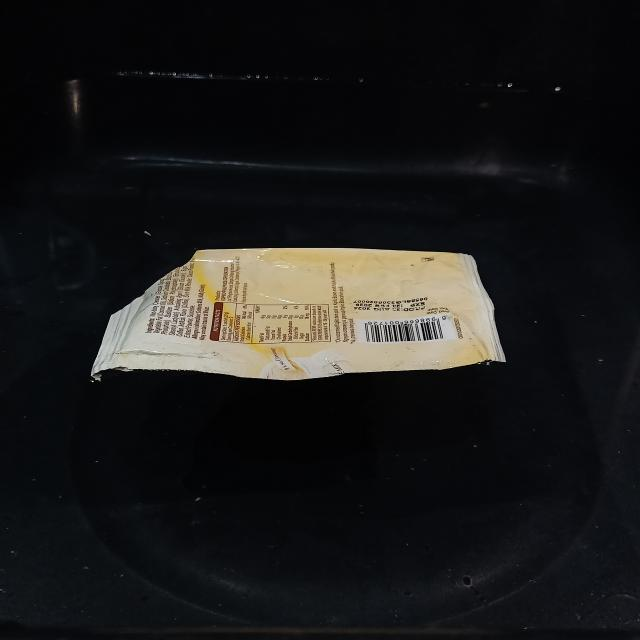Plastic Wrapper: (91, 248, 505, 380)
